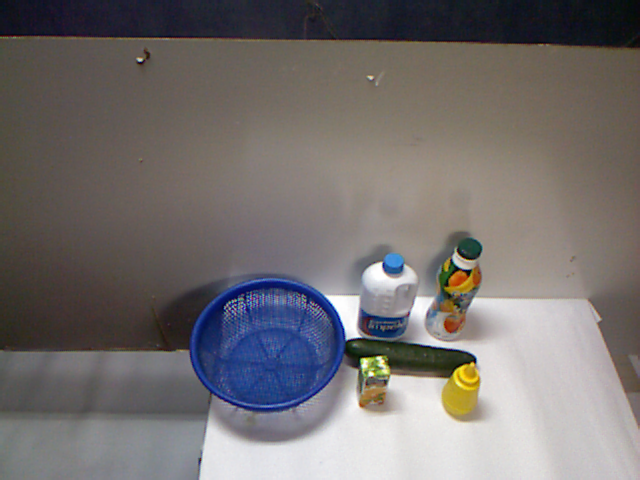cloro: (317, 258, 382, 354)
esponja: (227, 355, 287, 405)
leche: (398, 269, 473, 361)
limon: (303, 360, 361, 408)
mostaza: (366, 338, 411, 398)
te: (238, 289, 302, 346)
